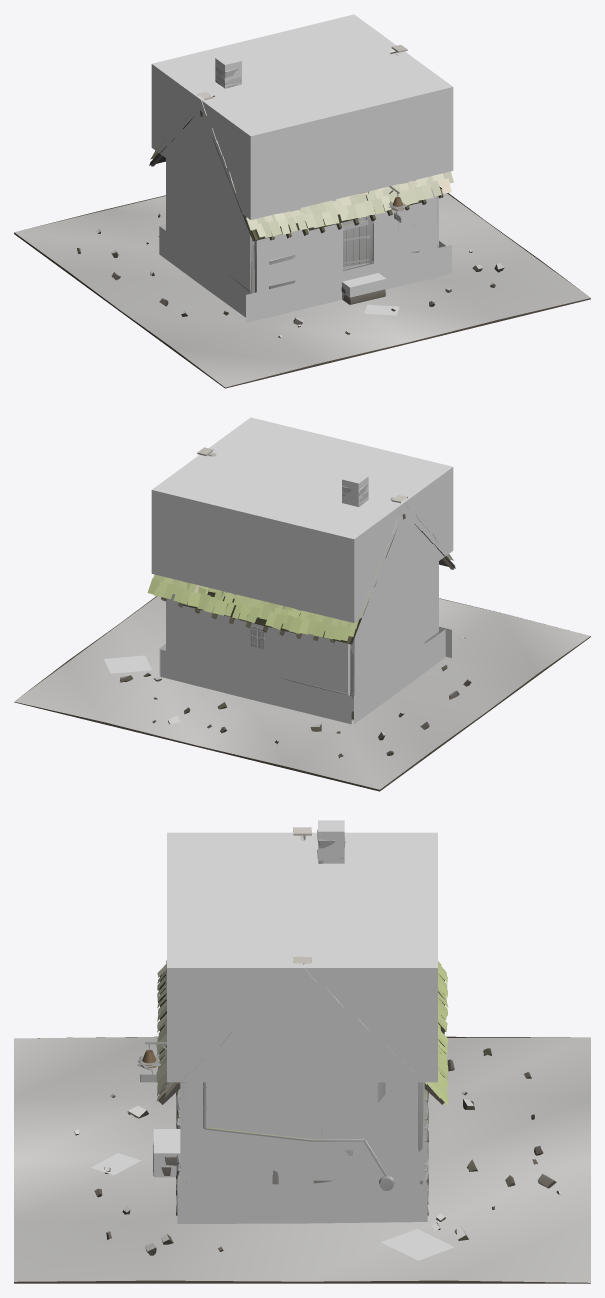
Rendered from bld_lodge_orrin_shared.glb.
3 renders of one model, top to bottom at view 1: azimuth 30°, elevation 25°; view 2: azimuth 150°, elevation 25°; view 3: azimuth 270°, elevation 25°, orthographic. The views are drawn at different scales.
Visible parts, largest first — view 1: col_roof, ground_mud, decals_orrin, col_col_wall_W_0, roof_main_shingles, col_col_wall_S_0, col_col_wall_S_2, door_main_leaf, col_steps, ground_clutter, frame_S, col_chimney (+2 smaller); view 2: col_roof, ground_mud, decals_orrin, col_col_wall_N_0, col_col_wall_W_0, roof_main_shingles, ground_clutter, col_chimney, roof_main_sheathing; view 3: ground_mud, col_roof, col_col_wall_E_0, decals_orrin, roof_main_shingles, ground_clutter, col_steps, col_chimney, bell_rope, plinth, col_col_wall_S_2.
Part boxes in pixels (<box>): col_roof: <box>151,14,453,219</box>; ground_mud: <box>14,187,590,388</box>; decals_orrin: <box>159,180,451,323</box>; col_col_wall_W_0: <box>166,158,254,292</box>; roof_main_shingles: <box>150,45,453,237</box>; col_col_wall_S_0: <box>256,199,342,292</box>; col_col_wall_S_2: <box>372,188,437,263</box>; door_main_leaf: <box>343,215,372,266</box>; col_steps: <box>342,273,386,304</box>; ground_clutter: <box>77,213,504,337</box>; frame_S: <box>254,191,419,292</box>; col_chimney: <box>215,54,241,88</box>; col_roof: <box>151,417,453,622</box>; ground_mud: <box>14,596,590,791</box>; decals_orrin: <box>104,626,451,724</box>; col_col_wall_N_0: <box>167,588,350,695</box>; col_col_wall_W_0: <box>350,561,438,720</box>; roof_main_shingles: <box>147,447,453,640</box>; ground_clutter: <box>120,636,471,758</box>; col_chimney: <box>342,472,368,506</box>; roof_main_sheathing: <box>183,524,455,644</box>; ground_mud: <box>14,1036,590,1283</box>; col_roof: <box>167,832,437,1082</box>; col_col_wall_E_0: <box>187,1082,417,1184</box>; decals_orrin: <box>91,1153,454,1260</box>; roof_main_shingles: <box>156,827,448,1105</box>; ground_clutter: <box>74,1048,561,1255</box>; col_steps: <box>153,1129,180,1177</box>; col_chimney: <box>318,820,344,863</box>; bell_rope: <box>203,1082,394,1190</box>; plinth: <box>176,1089,428,1215</box>; col_col_wall_S_2: <box>180,1082,186,1184</box>.
Bounding box in the file's own units: 13 × 7.34 × 13.
